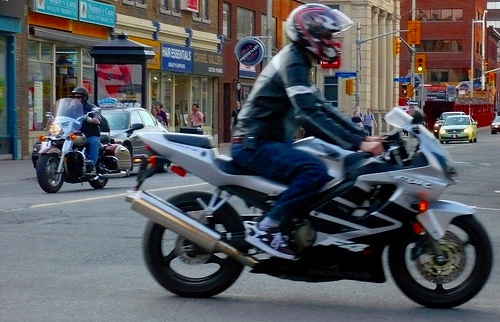non-vehicle: (124, 106, 494, 309), (36, 98, 132, 195)
